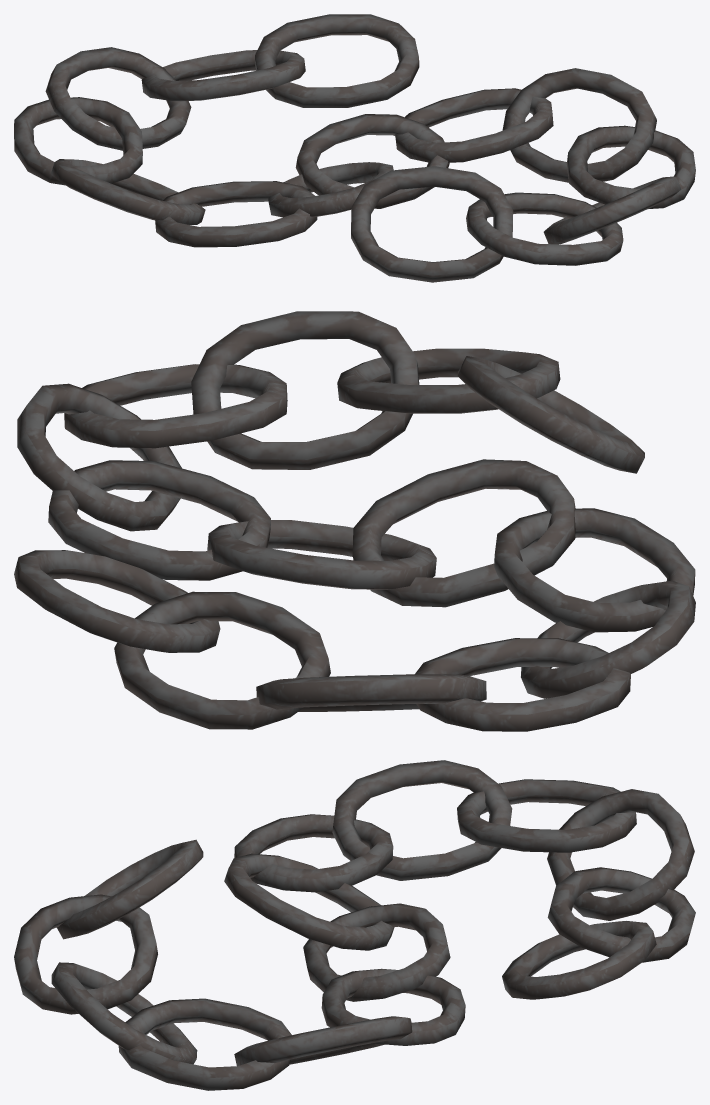
The model's file is Prop_ChainGround.fbx.
The picture shows the model from 3 angles, top to bottom: view 1: azimuth 30°, elevation 25°; view 2: azimuth 150°, elevation 25°; view 3: azimuth 270°, elevation 25°; orthographic projection. The views are drawn at different scales.
Visible parts, largest first — view 1: CDTMesh_ChainGround; view 2: CDTMesh_ChainGround; view 3: CDTMesh_ChainGround.
Boxes of the visible parts, x1=… form: CDTMesh_ChainGround: x1=14, y1=14, x2=695, y2=282; CDTMesh_ChainGround: x1=14, y1=311, x2=695, y2=731; CDTMesh_ChainGround: x1=14, y1=760, x2=695, y2=1090.
Size of what is drawn, in the model's own units: 1.25 by 0.2295 by 1.26.
1 material, 1 textured.
